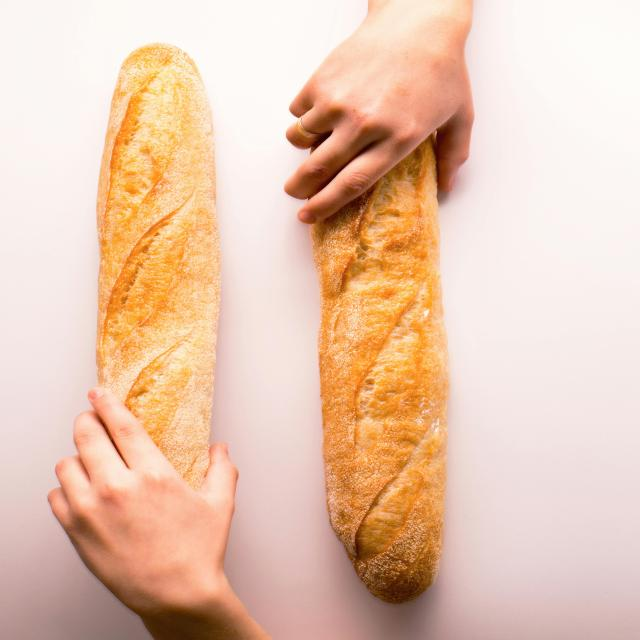Baguette: (310, 136, 449, 603), (96, 44, 220, 488)
